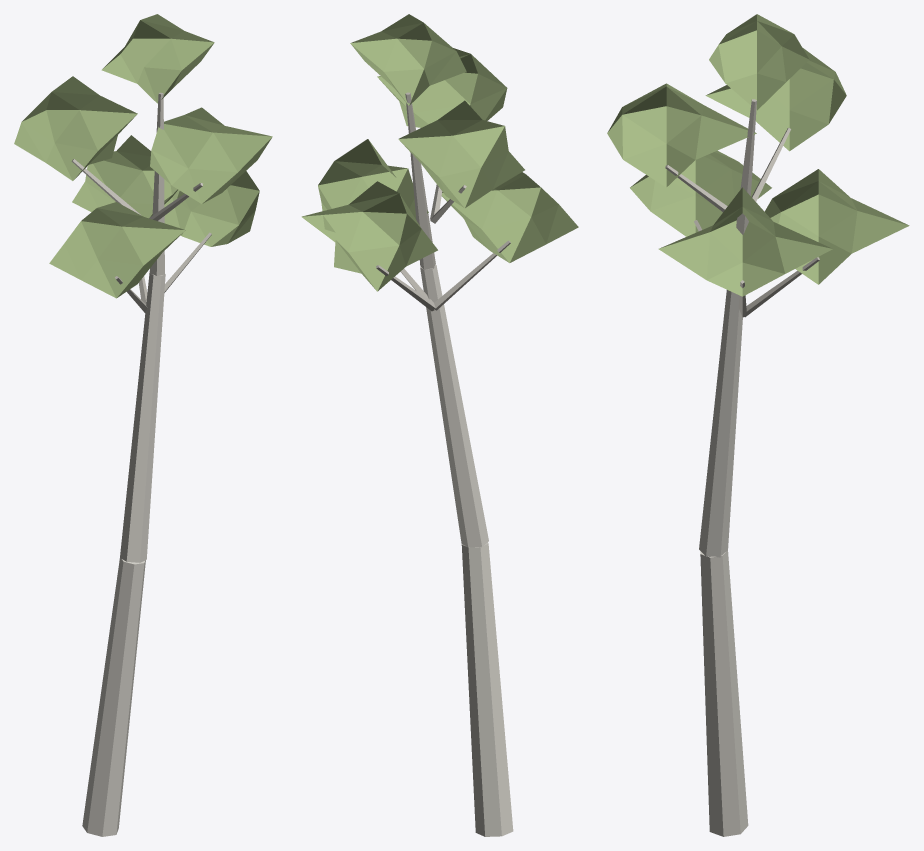
The model's file is tree_birch.glb.
3 views of the same model, side by side, from view 1: azimuth 30°, elevation 25°; view 2: azimuth 150°, elevation 25°; view 3: azimuth 270°, elevation 25° (orthographic). The views are drawn at different scales.
Visible parts, largest first — view 1: lod0; view 2: lod0; view 3: lod0.
Part boxes in pixels (box(x1,y1,x2,y2)): lod0: box(14, 14, 272, 836); lod0: box(301, 14, 578, 836); lod0: box(607, 14, 909, 836).
Size of what is drawn, in the model's own units: 1.99 by 6.46 by 2.08.
